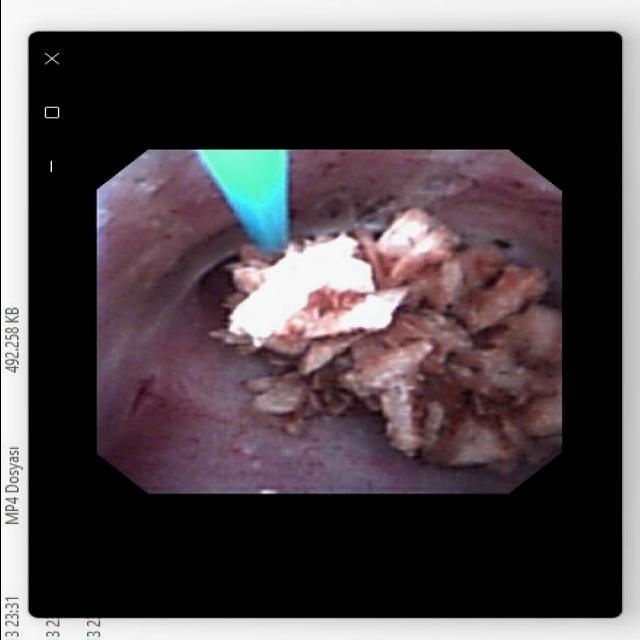fiber: (205, 153, 283, 248)
stone: (212, 208, 554, 466)
